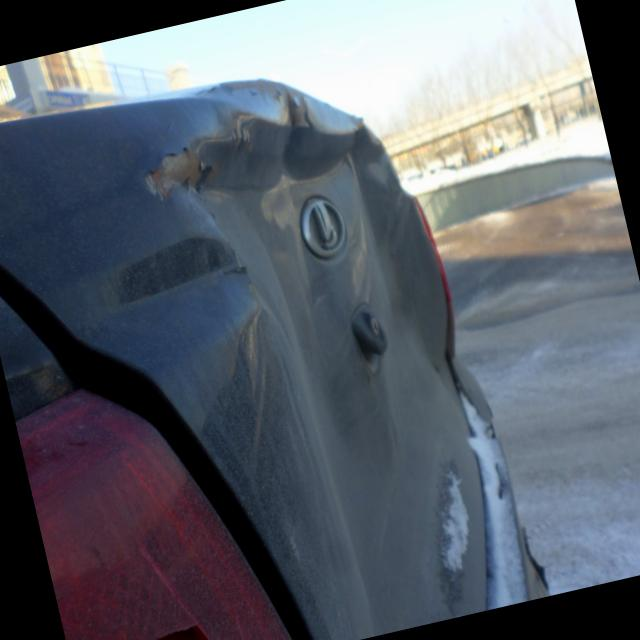Cabossage: (80, 44, 513, 640)
Dechirure: (130, 144, 220, 209)
